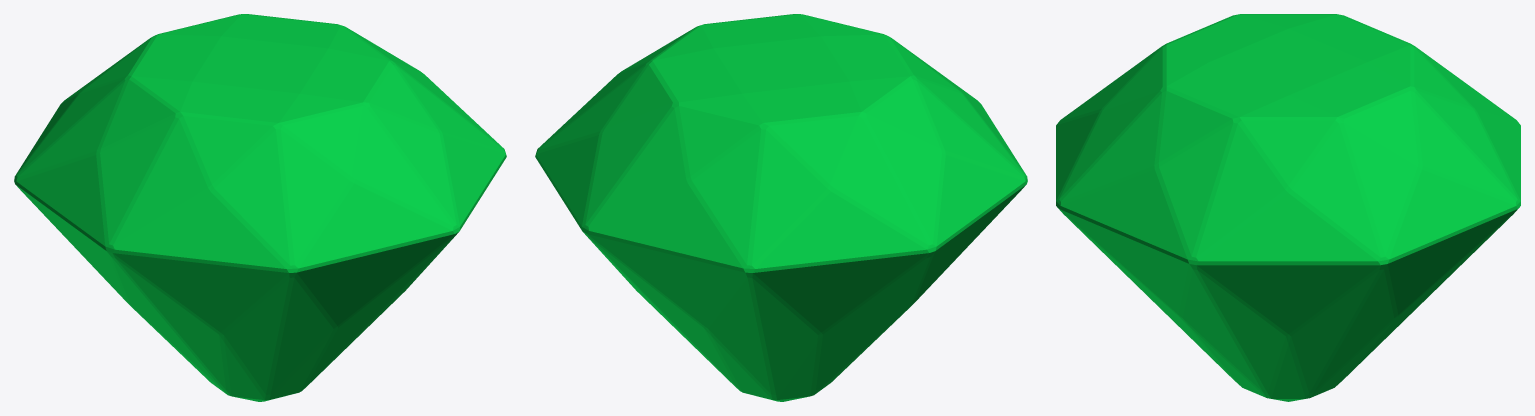
File: Green Chaos Emerald.obj
3 renders of one model, left to right at view 1: azimuth 30°, elevation 25°; view 2: azimuth 150°, elevation 25°; view 3: azimuth 270°, elevation 25°, orthographic.
Size of the model in its own units: 37.38 by 29.91 by 37.38.
Materials: 1 (1 with a texture image).
